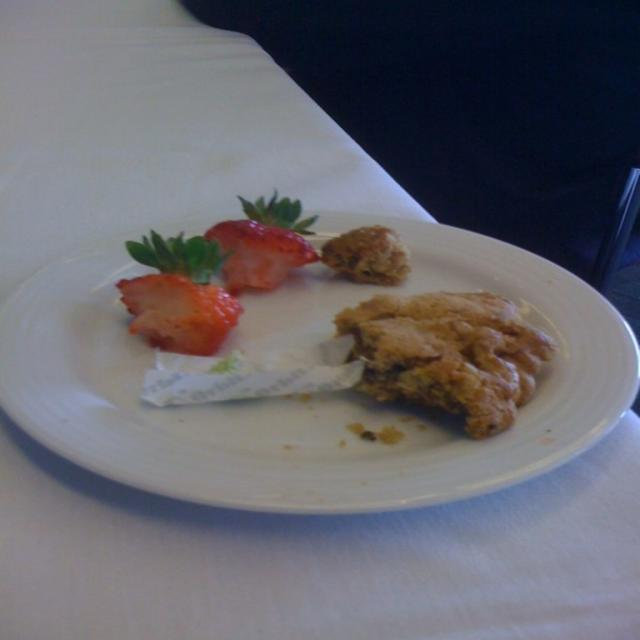non-organic waste: (2, 205, 640, 514)
